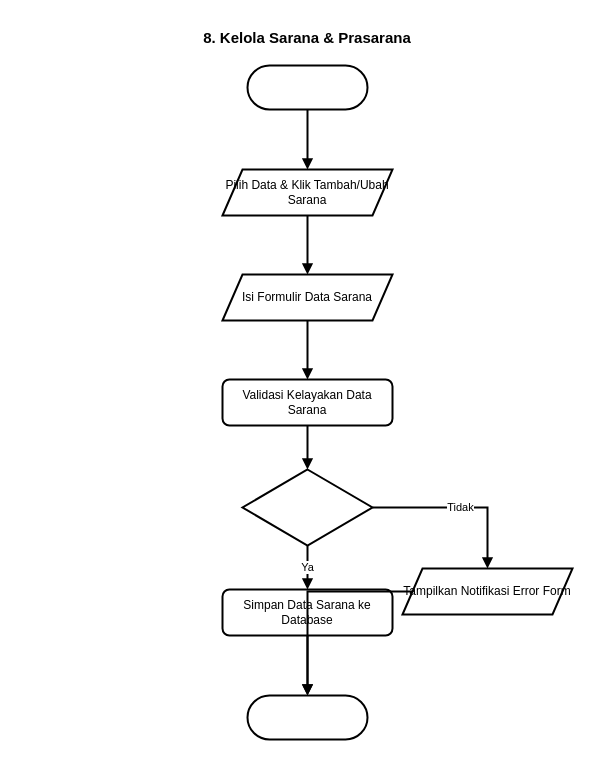
This 614x757 diagram has some shape labels left out. The centre of each missing label's shape, as x and y in pixels:
"Data Valid?" belongs at pixel 307 507.
"Mulai" belongs at pixel 307 87.
"Selesai" belongs at pixel 307 717.
